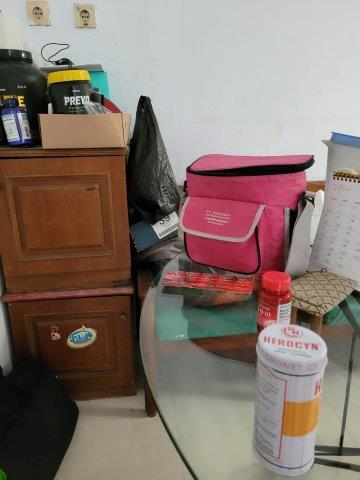kaleng: (254, 323, 327, 478)
